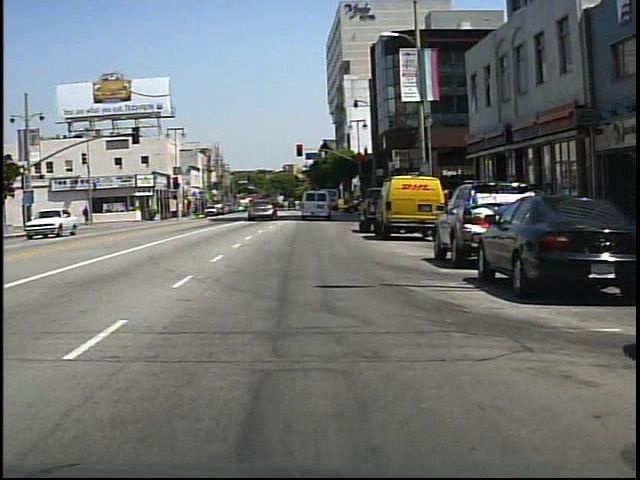person: (254, 192, 271, 222), (81, 203, 96, 231)
